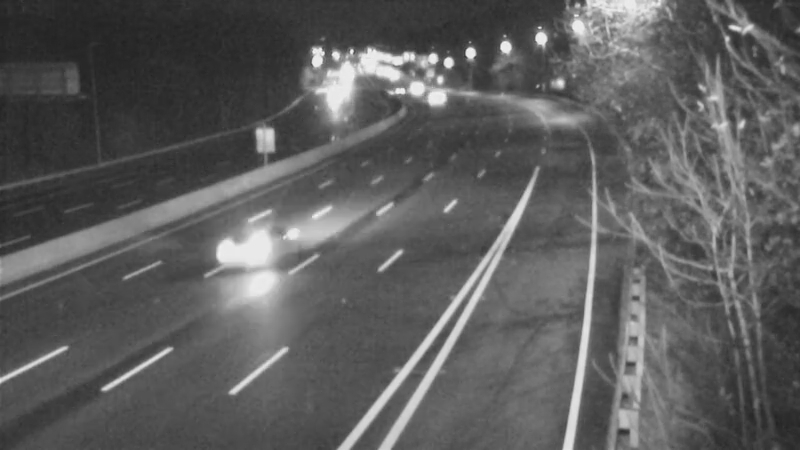vehicle: (199, 214, 279, 294), (388, 66, 438, 116), (375, 70, 425, 120), (413, 74, 463, 124)
